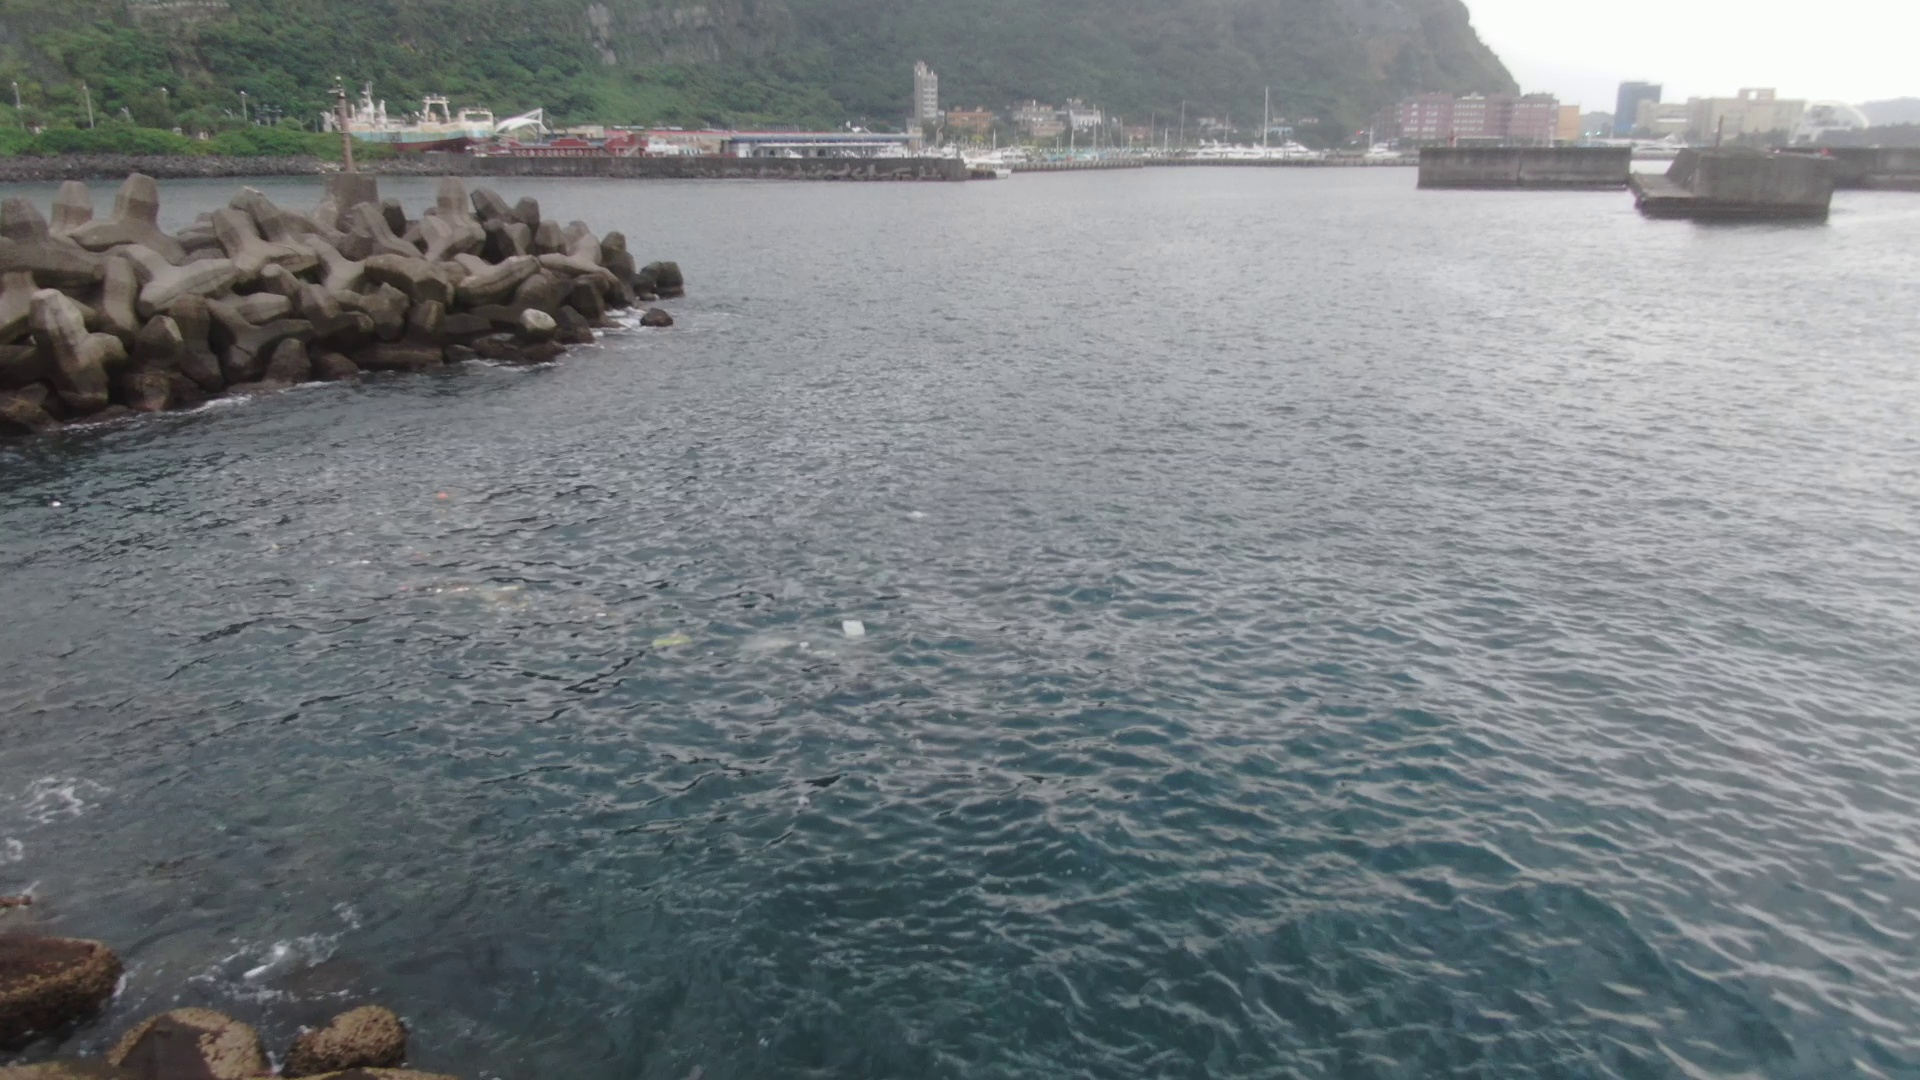garbage: (829, 613, 880, 651)
